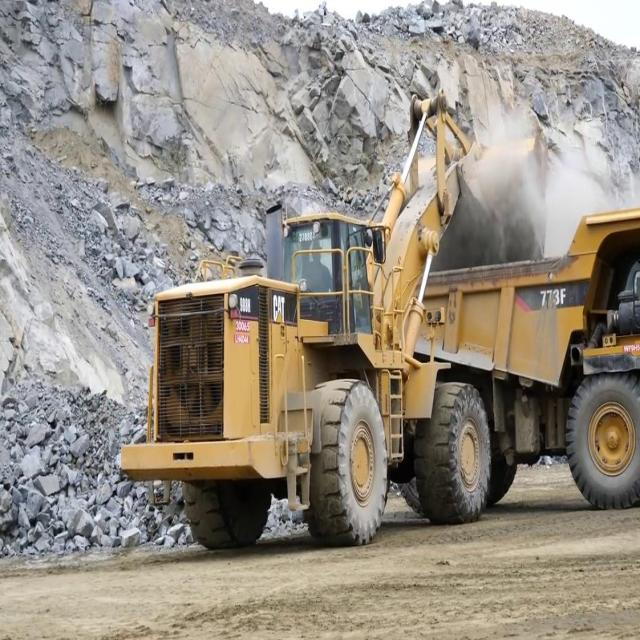buldozerpayloadergrader: (118, 89, 550, 550)
dump_truck: (413, 203, 639, 507)
